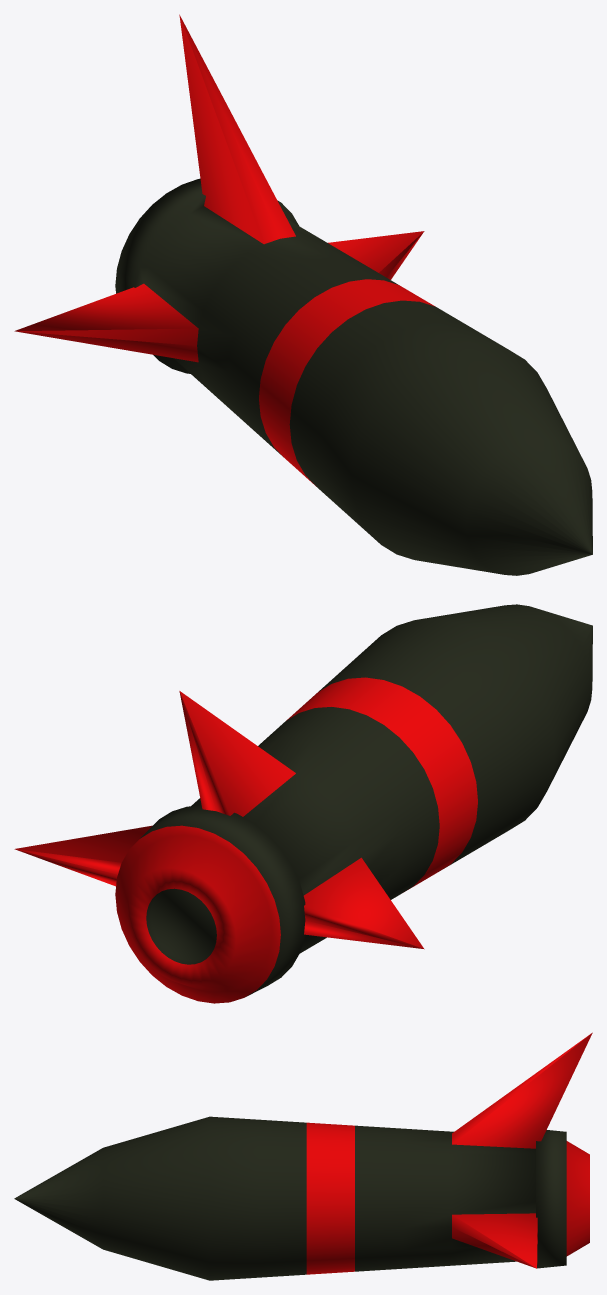
File: RPG_bullet.fbx
3 views of the same model, one above another, from view 1: azimuth 30°, elevation 25°; view 2: azimuth 150°, elevation 25°; view 3: azimuth 270°, elevation 25° (orthographic). The views are drawn at different scales.
Parts seen in each view (by area): view 1: RPG_bullet; view 2: RPG_bullet; view 3: RPG_bullet.
Part boxes in pixels (x1,y1,x2,y2): RPG_bullet: (14, 14, 592, 575); RPG_bullet: (14, 604, 592, 1003); RPG_bullet: (14, 1032, 592, 1280).
Bounding box in the file's own units: 0.8283 × 0.6634 × 1.45.
